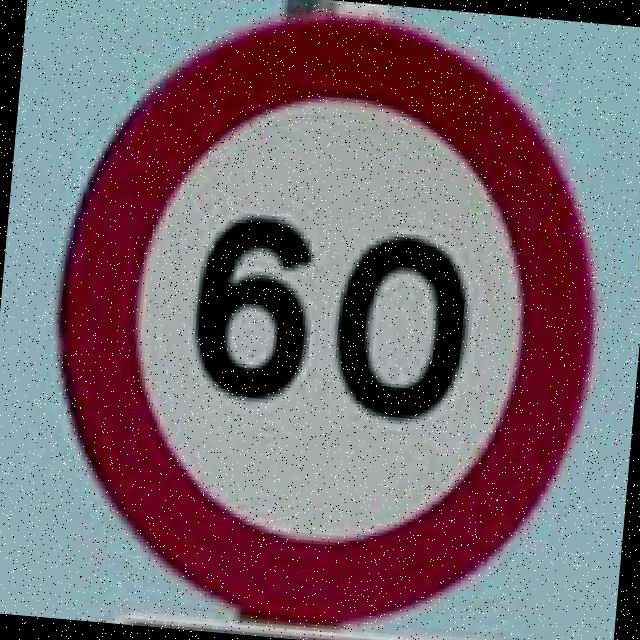Ograniczenie predkosci do 60: (39, 0, 617, 635)
